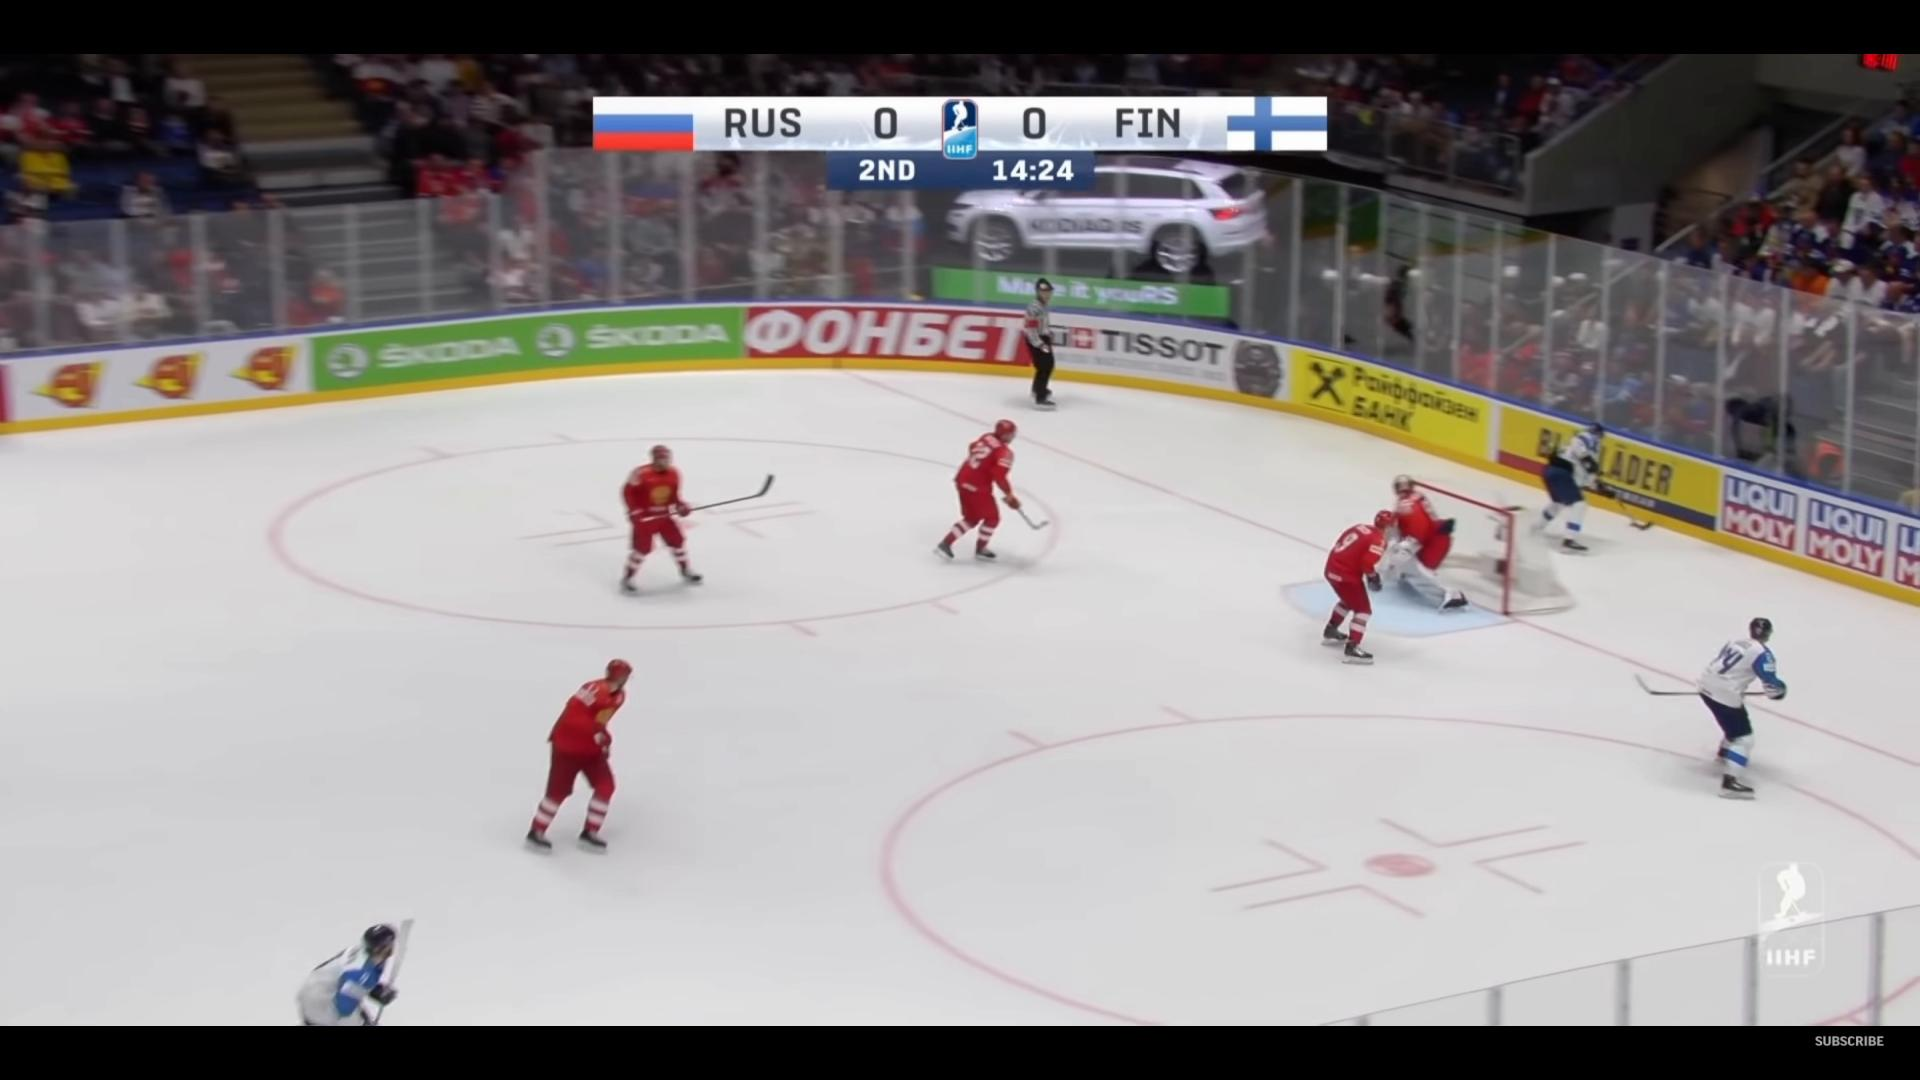puck: (1630, 522, 1638, 527)
